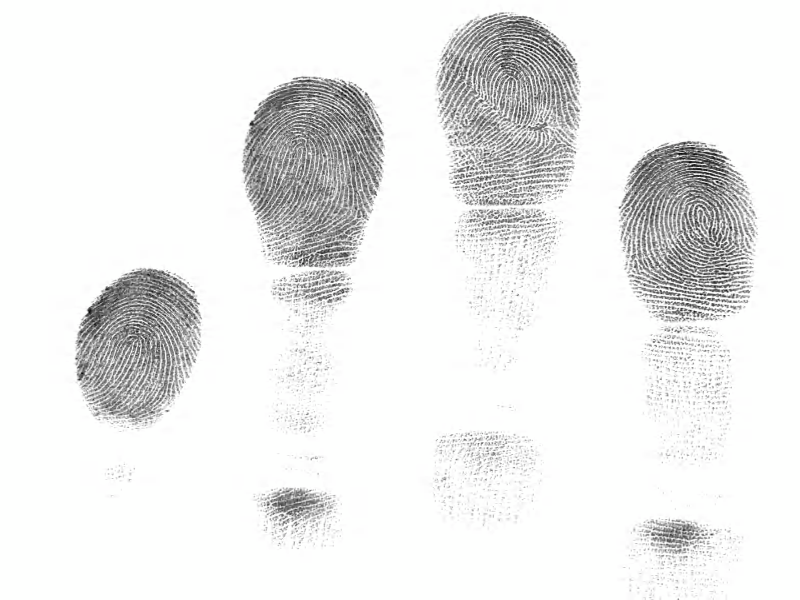distal: (430, 3, 589, 214), (232, 68, 395, 270), (603, 136, 773, 326), (61, 261, 219, 434)
proximal: (448, 210, 564, 390), (261, 270, 367, 451), (628, 323, 752, 470)
